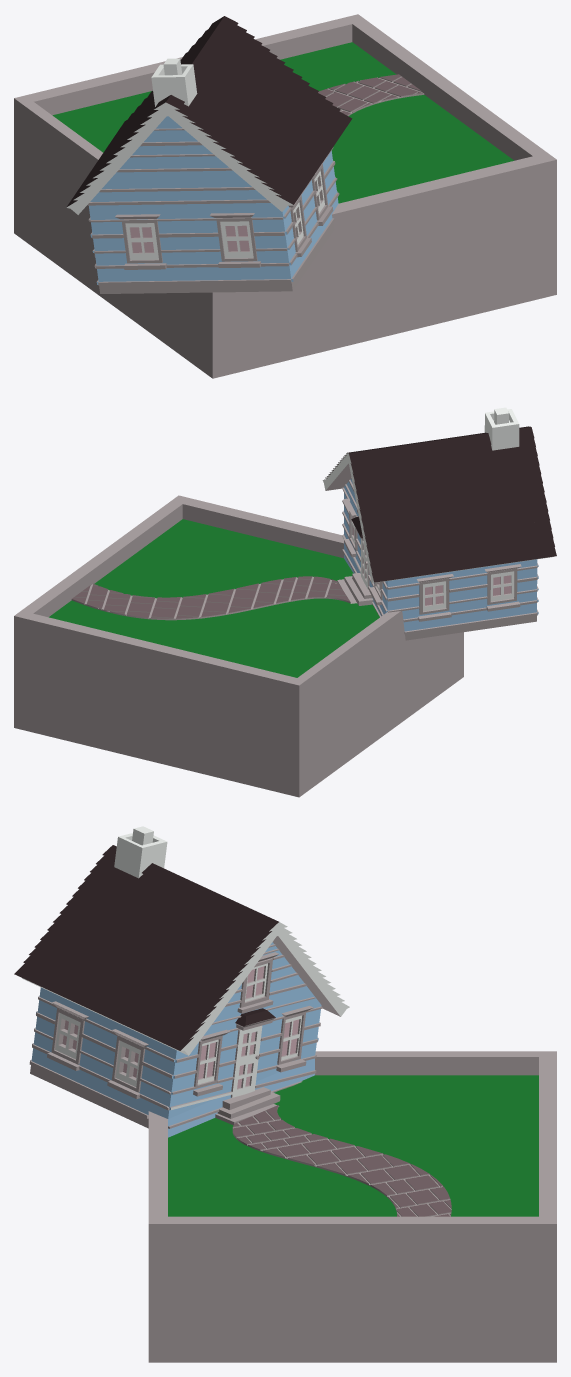
File: preview.glb
3 views of the same model, one above another, from view 1: azimuth 30°, elevation 25°; view 2: azimuth 150°, elevation 25°; view 3: azimuth 270°, elevation 25° (orthographic). The views are drawn at different scales.
Parts seen in each view (by area): view 1: fallen star_Default_fallen star_0, fallen star_Chrome - Polished_fallen star_0; view 2: fallen star_Default_fallen star_0, fallen star_Chrome - Polished_fallen star_0; view 3: fallen star_Default_fallen star_0, fallen star_Chrome - Polished_fallen star_0.
Part boxes in pixels (x1,y1,x2,y2): fallen star_Default_fallen star_0: [14, 14, 556, 378]; fallen star_Chrome - Polished_fallen star_0: [130, 225, 249, 252]; fallen star_Default_fallen star_0: [14, 407, 556, 797]; fallen star_Chrome - Polished_fallen star_0: [353, 516, 511, 605]; fallen star_Default_fallen star_0: [14, 826, 556, 1362]; fallen star_Chrome - Polished_fallen star_0: [62, 966, 299, 1088].
Size of the model in its own units: 69.9 by 46.6 by 67.54.
Materials: 2 (2 with a texture image).
